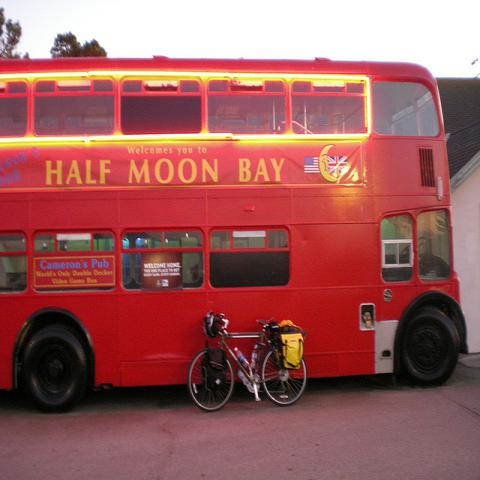bus: (2, 56, 467, 418)
